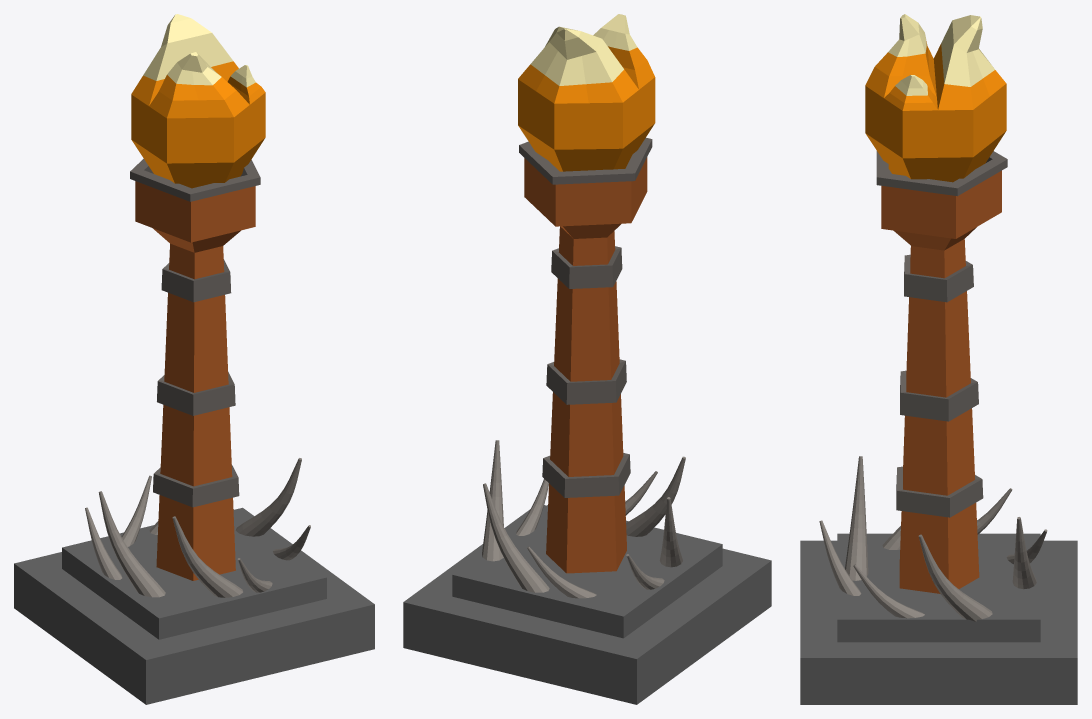
File: TORCH_Light.fbx
3 renders of one model, left to right at view 1: azimuth 30°, elevation 25°; view 2: azimuth 150°, elevation 25°; view 3: azimuth 270°, elevation 25°, orthographic. The views are drawn at different scales.
Parts seen in each view (by area): view 1: Cube; view 2: Cube; view 3: Cube.
Part boxes in pixels (left/top/right/bottom): Cube: left=14, top=14, right=374, bottom=704; Cube: left=403, top=14, right=771, bottom=704; Cube: left=800, top=14, right=1077, bottom=704.
Size of the model in its own units: 168 by 420 by 168.
